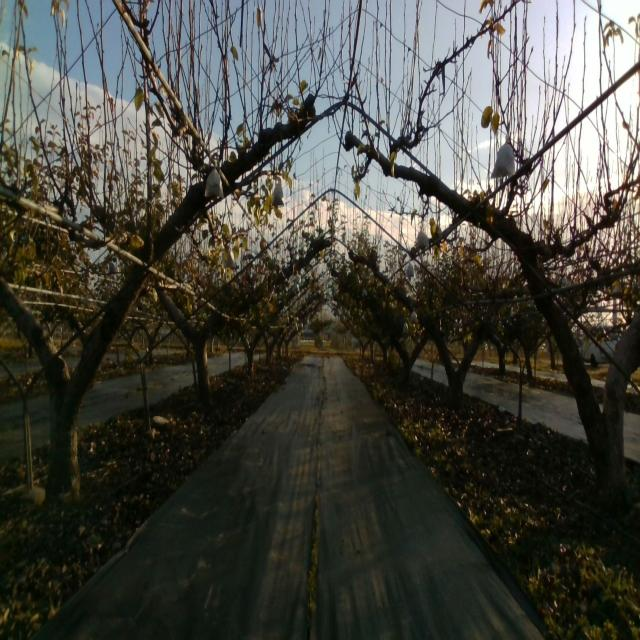pearbags: (490, 134, 516, 179), (203, 158, 225, 200), (271, 181, 285, 206), (415, 226, 430, 248), (223, 248, 237, 270)
